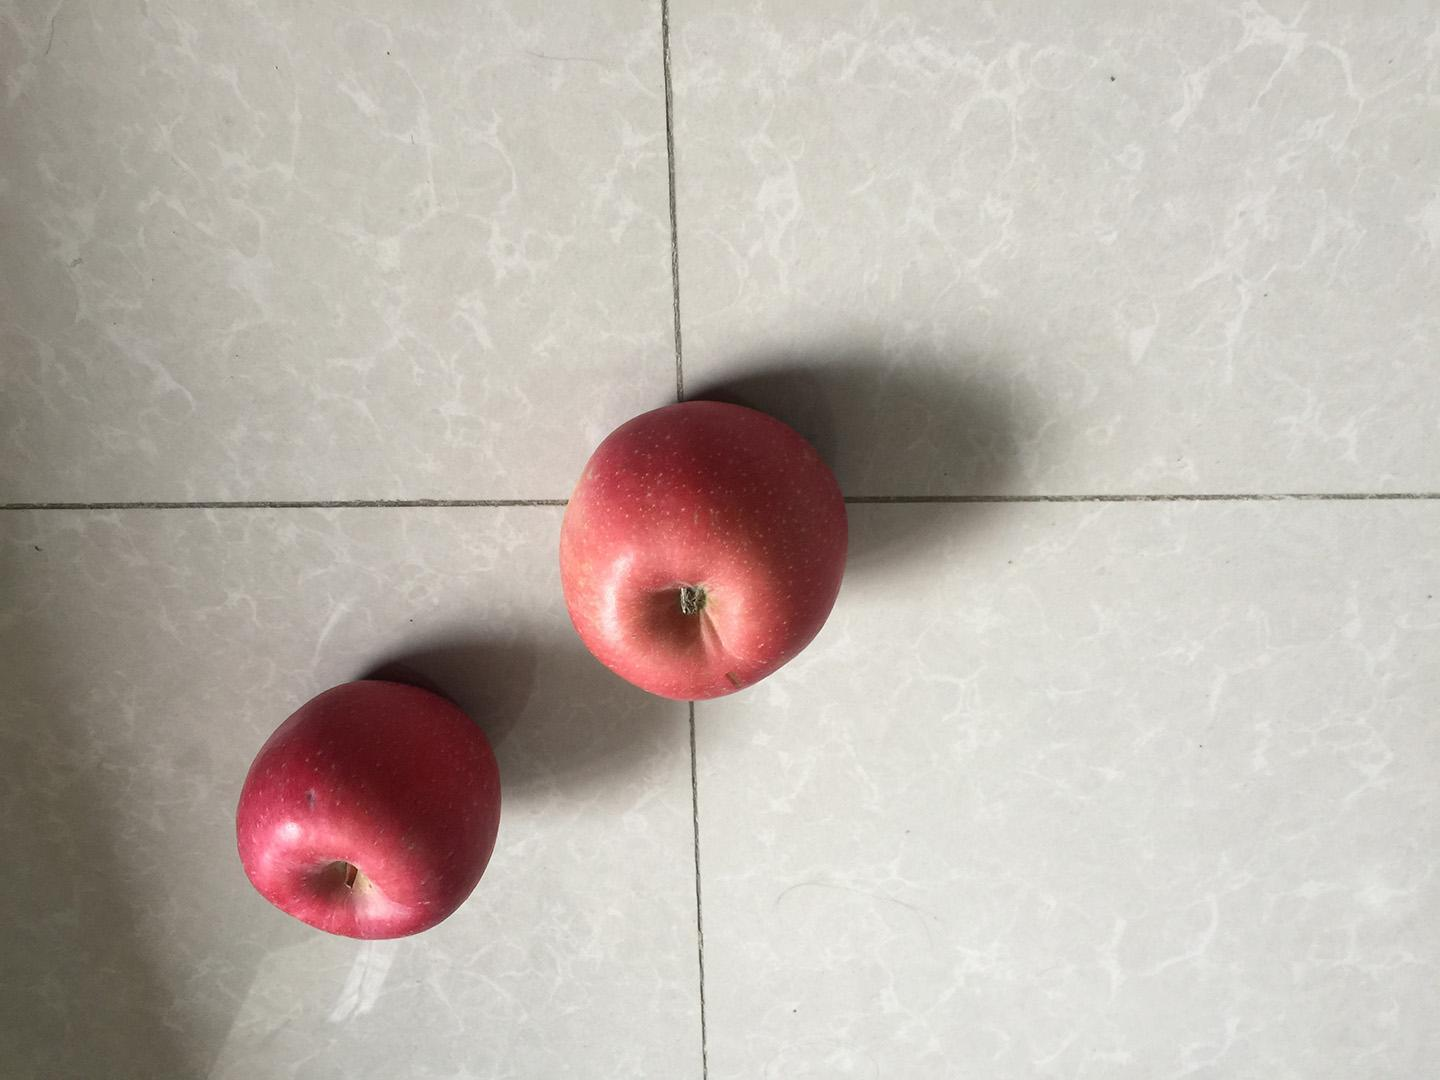apple: (550, 390, 858, 704), (227, 669, 513, 950)
